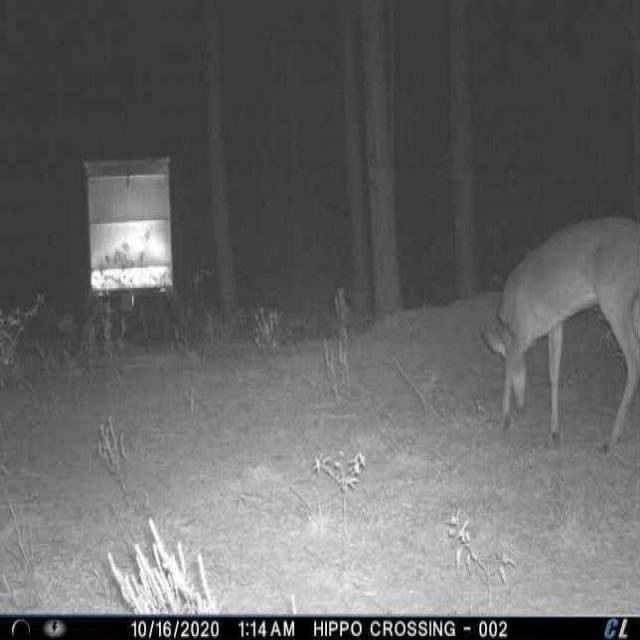deer: (480, 208, 639, 451)
